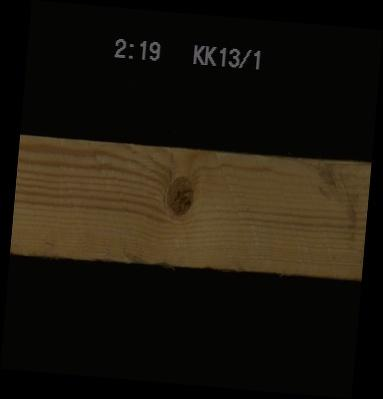sound_knot: (162, 174, 197, 217)
